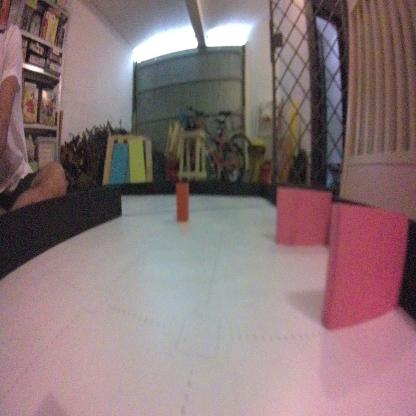magenta: (321, 200, 407, 329), (275, 184, 332, 250)
red: (175, 181, 190, 224)
